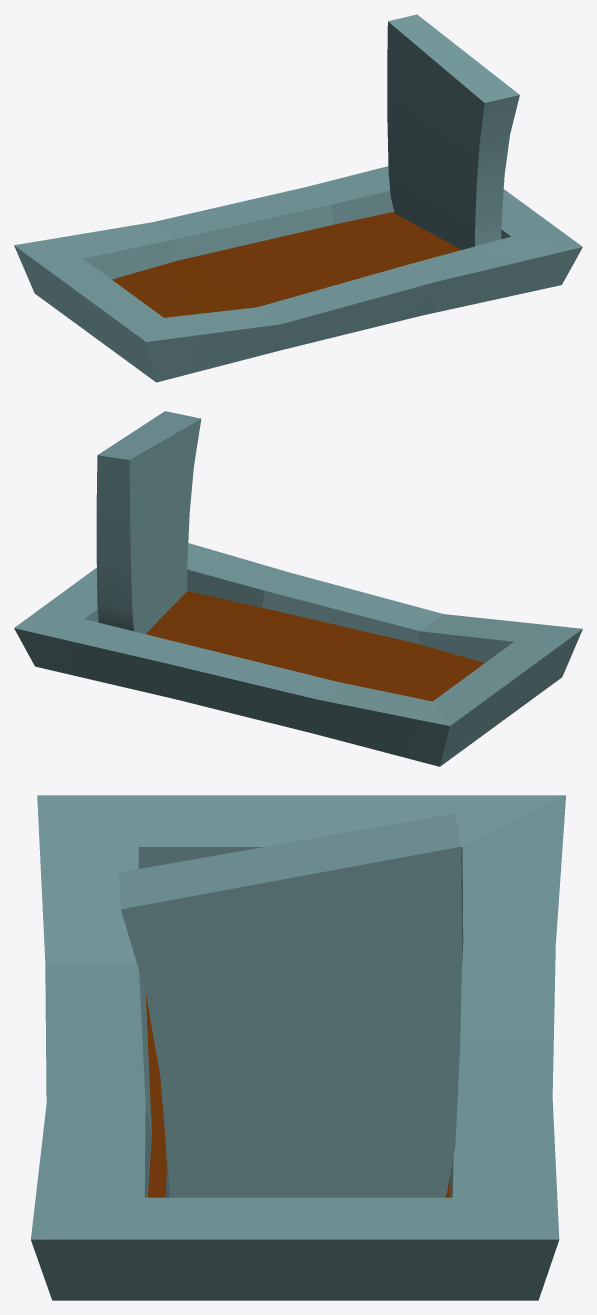
File: Cementery_Grave1.fbx
The picture shows the model from 3 angles, top to bottom: view 1: azimuth 30°, elevation 25°; view 2: azimuth 150°, elevation 25°; view 3: azimuth 270°, elevation 25°; orthographic projection. The views are drawn at different scales.
Parts seen in each view (by area): view 1: Grave2; view 2: Grave2; view 3: Grave2.
Boxes of the visible parts, x1,y1,x2,y2 form: Grave2: (14, 14, 582, 382); Grave2: (14, 411, 582, 766); Grave2: (31, 795, 565, 1300).
Bounding box in the file's own units: 158 × 72.24 × 84.3.
